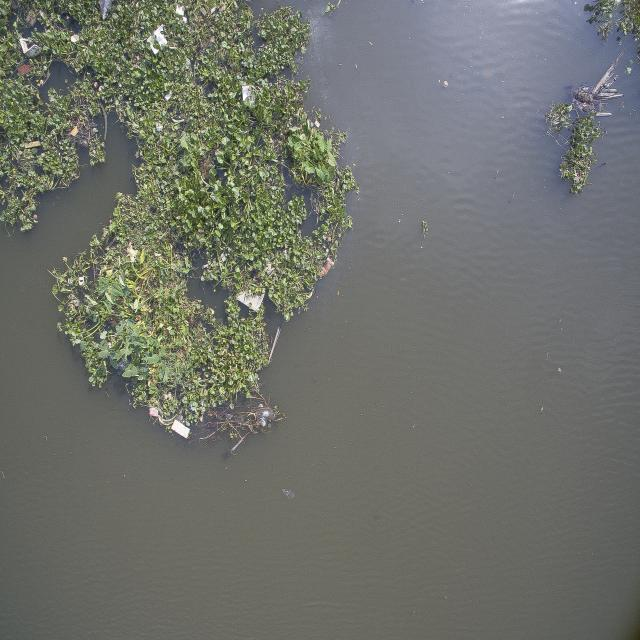Plastic: (237, 278, 263, 308), (147, 24, 167, 54), (169, 415, 189, 441), (19, 36, 36, 58), (242, 83, 255, 110)
